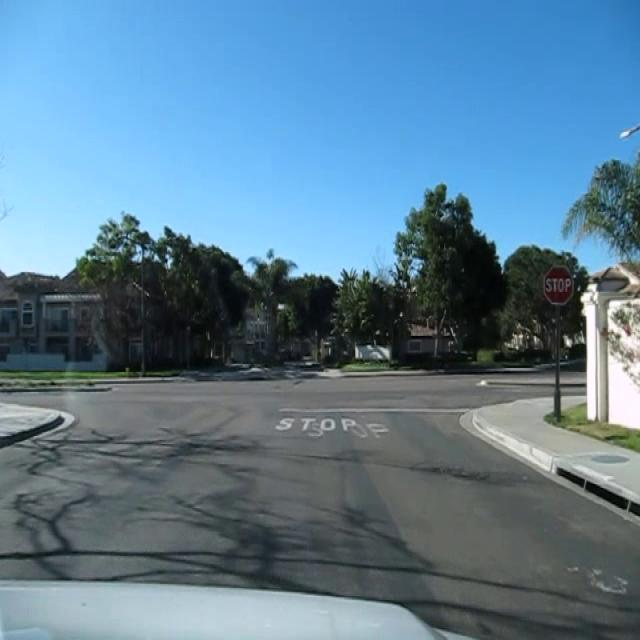stop: (542, 263, 575, 305)
